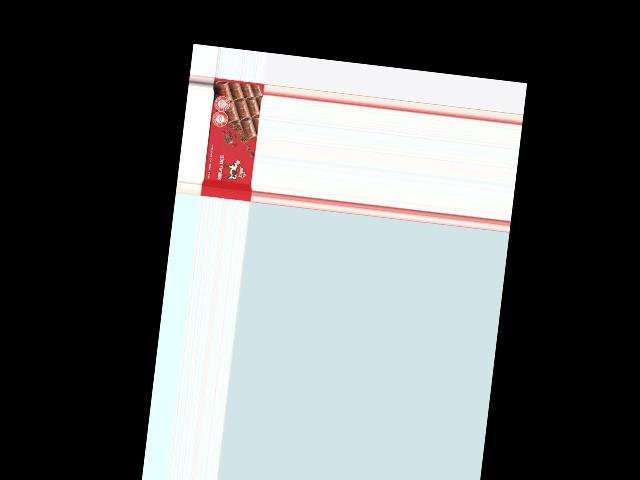chocolate: (199, 77, 264, 200)
